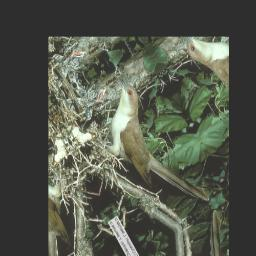Cuckoo: (82, 64, 211, 237)
